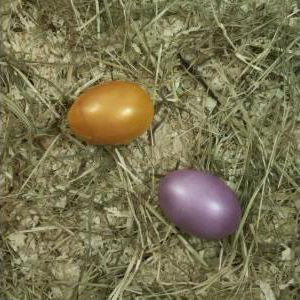egg: (159, 170, 244, 242), (66, 80, 155, 148)
